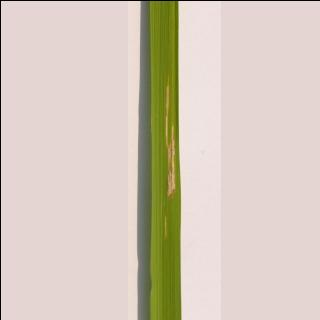Hawar-Daun: (158, 90, 186, 228)
